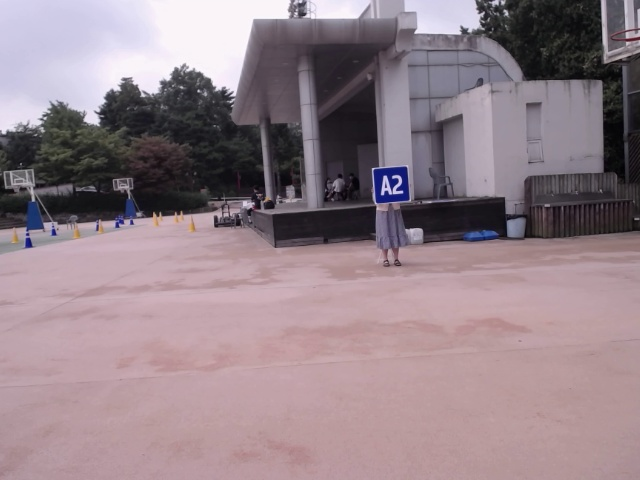delivery_a2: (372, 165, 411, 205)
